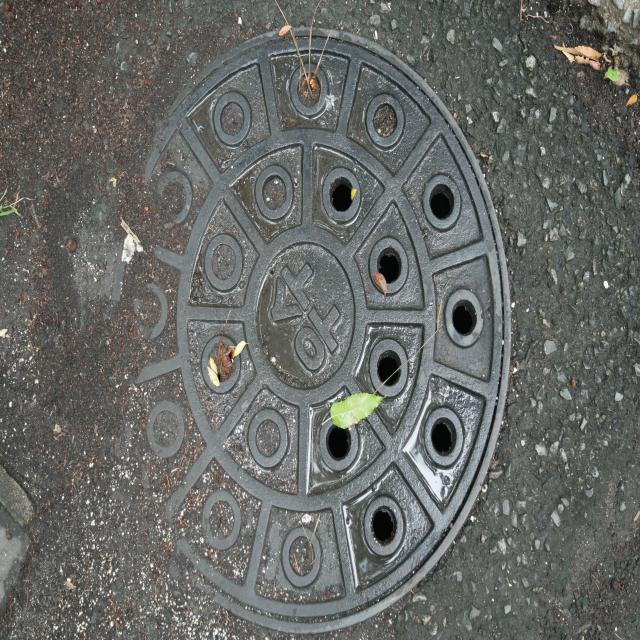manhole: (131, 28, 510, 632)
